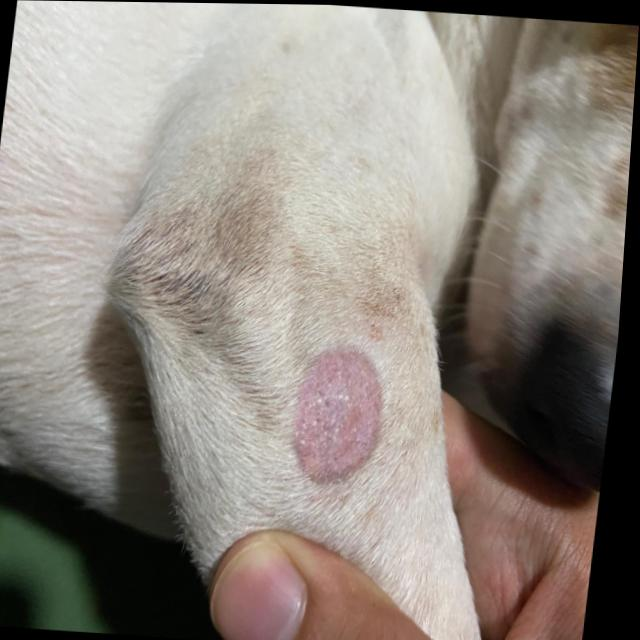ringworm: (280, 306, 423, 507)
